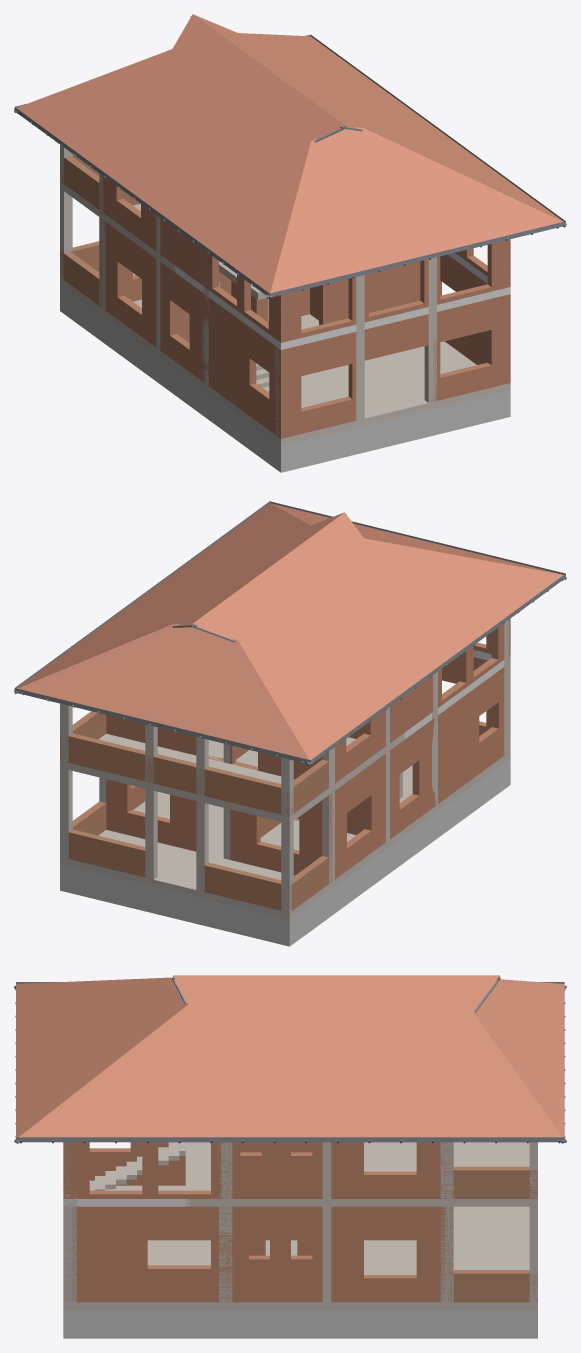
Rendered from konkan_house.glb.
3 views of the same model, one above another, from view 1: azimuth 30°, elevation 25°; view 2: azimuth 150°, elevation 25°; view 3: azimuth 270°, elevation 25° (orthographic). The views are drawn at different scales.
Visible parts, largest first — view 1: Hip_Roof, Living_Kitchen_South, Plinth, Living_Kitchen_West, Floor_Slab_0, Bedroom_1_West, Living_Kitchen_2_South, Living_Kitchen_2_West, Bathroom_1_South, Living_Kitchen_East, Bedroom_2_West, Staircase_Landing_West (+18 smaller); view 2: Hip_Roof, Plinth, Living_Kitchen_West, Floor_Slab_0, Upper_Verandah_North, Verandah_North, Floor_Slab_1, Bedroom_1_West, Bedroom_1_North, Workshop_North, Pillar_0_First_Pillar_1, Pillar_0_First_Pillar_3 (+21 smaller); view 3: Hip_Roof, Living_Kitchen_East, Plinth, Floor_Slab_0, Workshop_East, Floor_Slab_1, Bedroom_3_East, Bathroom_2_East, Living_Kitchen_2_East, pani_patti_E, Verandah_East, Upper_Verandah_East (+10 smaller).
Part boxes in pixels (x1,y1,x2,y2): Hip_Roof: (16,14,563,293); Living_Kitchen_South: (277,294,510,438); Plinth: (60,284,510,472); Living_Kitchen_West: (160,262,276,435); Floor_Slab_0: (60,272,510,445); Bedroom_1_West: (103,220,156,347); Living_Kitchen_2_South: (288,241,503,340); Living_Kitchen_2_West: (207,252,287,342); Bathroom_1_South: (369,261,420,312); Living_Kitchen_East: (440,254,487,364); Bedroom_2_West: (103,176,156,251); Staircase_Landing_West: (160,218,207,288); Hip_Roof: (17,503,563,760); Plinth: (60,758,510,946); Living_Kitchen_West: (390,667,506,838); Floor_Slab_0: (60,751,510,919); Upper_Verandah_North: (60,733,293,816); Verandah_North: (68,829,293,911); Floor_Slab_1: (68,733,404,822); Bedroom_1_West: (335,753,385,879); Bedroom_1_North: (230,793,332,883); Workshop_North: (106,779,196,851); Pillar_0_First_Pillar_1: (281,757,293,912); Pillar_0_First_Pillar_3: (145,724,157,879); Hip_Roof: (16,975,564,1137); Living_Kitchen_East: (71,1206,322,1302); Plinth: (63,1310,537,1338); Floor_Slab_0: (63,1185,537,1309); Workshop_East: (331,1206,445,1302); Floor_Slab_1: (291,1142,537,1206); Bedroom_3_East: (331,1142,445,1198); Bathroom_2_East: (230,1142,322,1198); Living_Kitchen_2_East: (63,1142,221,1198); pani_patti_E: (16,1137,564,1142); Verandah_East: (453,1270,529,1302); Upper_Verandah_East: (453,1166,529,1198).
Size of what is drawn, in the model's own units: 35.26 by 31.7 by 52.4.
